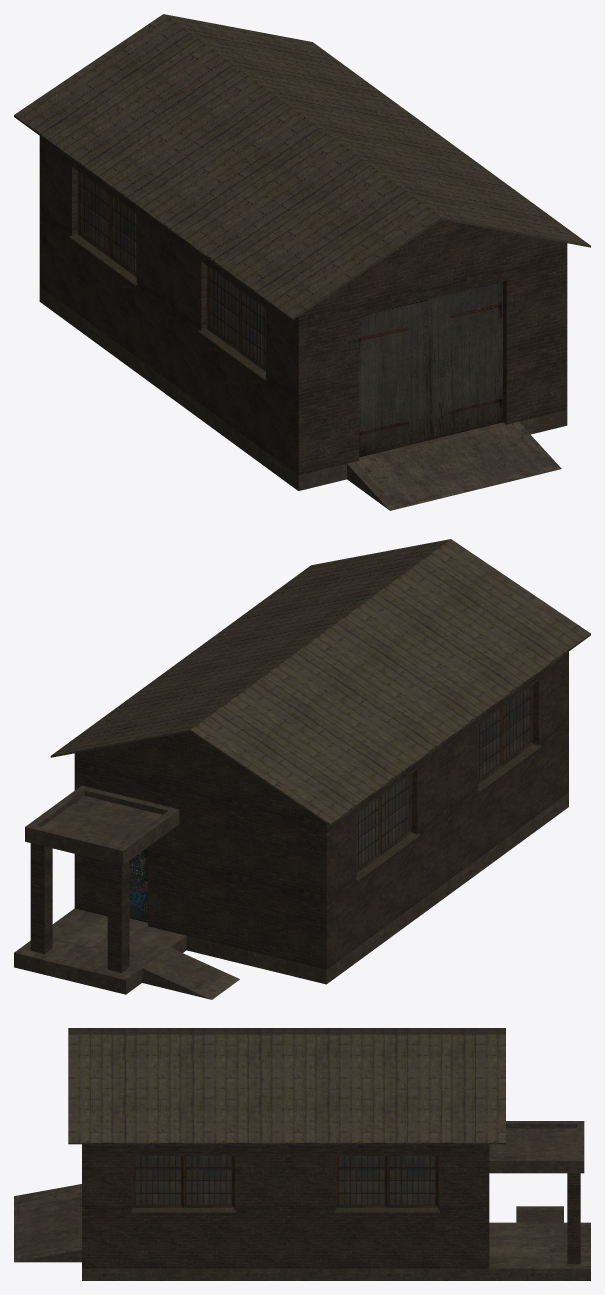
Rendered from warehouse_mx_2.glb.
The picture shows the model from 3 angles, top to bottom: view 1: azimuth 30°, elevation 25°; view 2: azimuth 150°, elevation 25°; view 3: azimuth 270°, elevation 25°; orthographic projection. The views are drawn at different scales.
Parts seen in each view (by area): view 1: warehouse_mx_2, garage_door_hr_3_piece_2, garage_door_hr_3_piece_1; view 2: warehouse_mx_2, door_hr_9; view 3: warehouse_mx_2.
Part boxes in pixels (x1,y1,x2,y2): warehouse_mx_2: (14, 14, 590, 510); garage_door_hr_3_piece_2: (429, 281, 502, 439); garage_door_hr_3_piece_1: (359, 299, 429, 457); warehouse_mx_2: (14, 539, 590, 999); door_hr_9: (129, 849, 147, 922); warehouse_mx_2: (14, 1028, 590, 1280).
Size of the model in its own units: 8 by 6.32 by 17.
10 materials, 10 textured.
